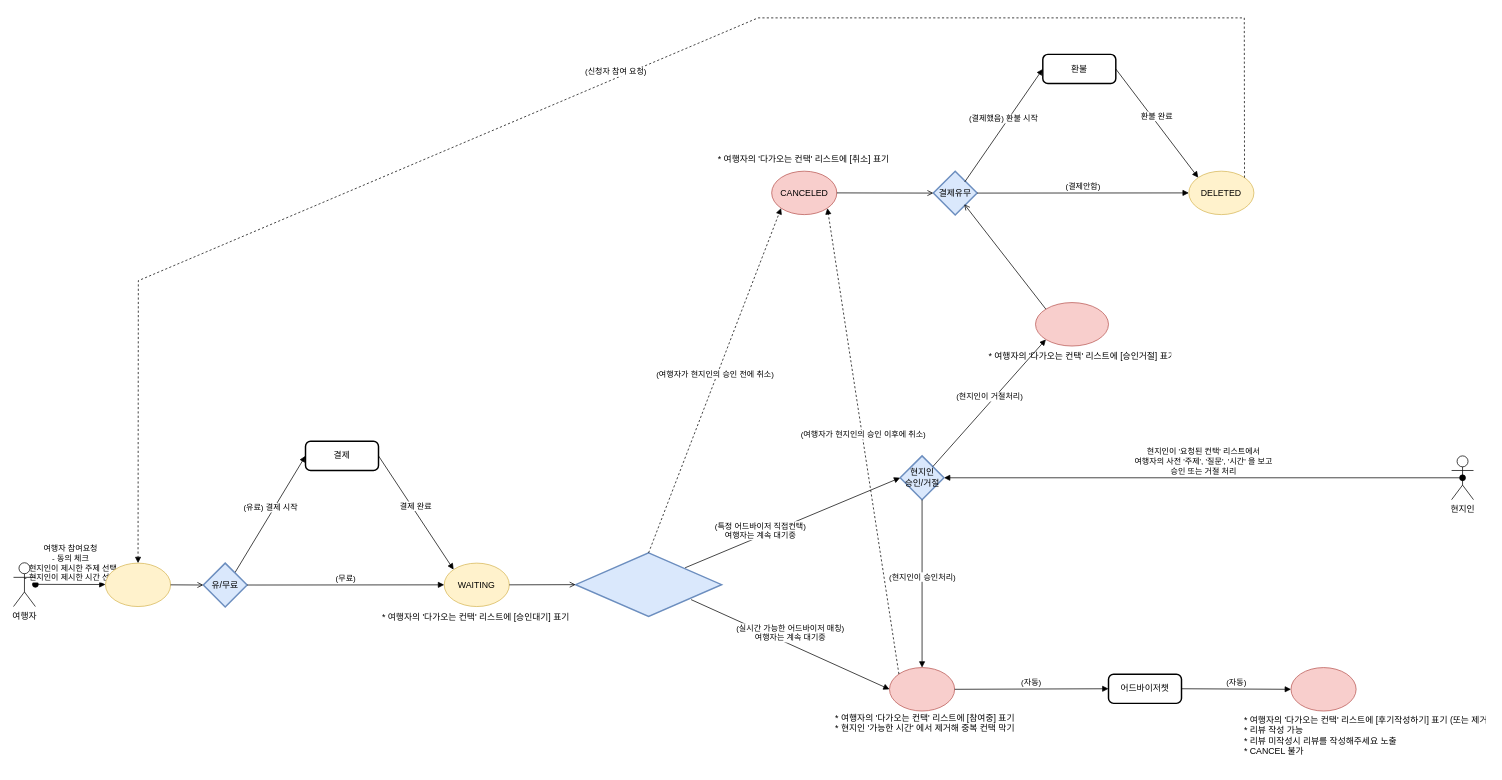
Image size: 1502x780. Some labels were removed from this diagram. The shapes that lost their labels are listed below. From the top down, each one's centre as x and y in pixels, then its label:
At (1072,324): "DISAPPROVED".
At (138,584): "PENDING".
At (648,584): "특정 현지인 직접 컨택 / 실시간 가능한 현지인 매칭".
At (922,689): "APPROVED".
At (1323,689): "COMPLETED".
